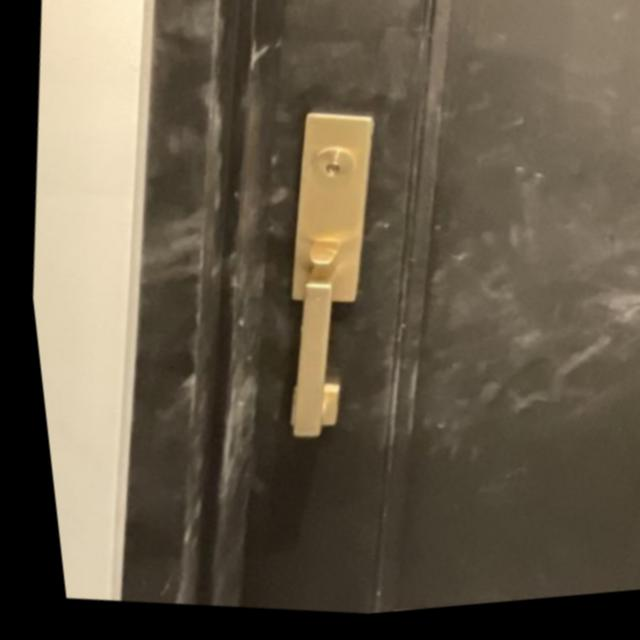door_handle: (228, 259, 386, 462)
